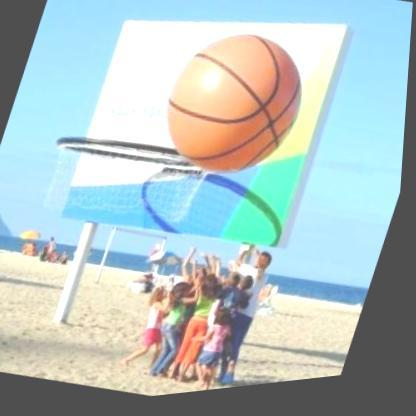basketball: (161, 21, 316, 195)
